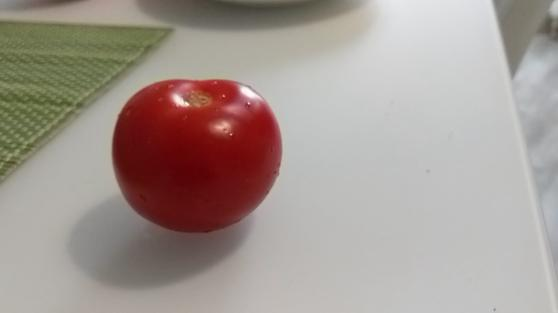tomato: (109, 78, 282, 235)
